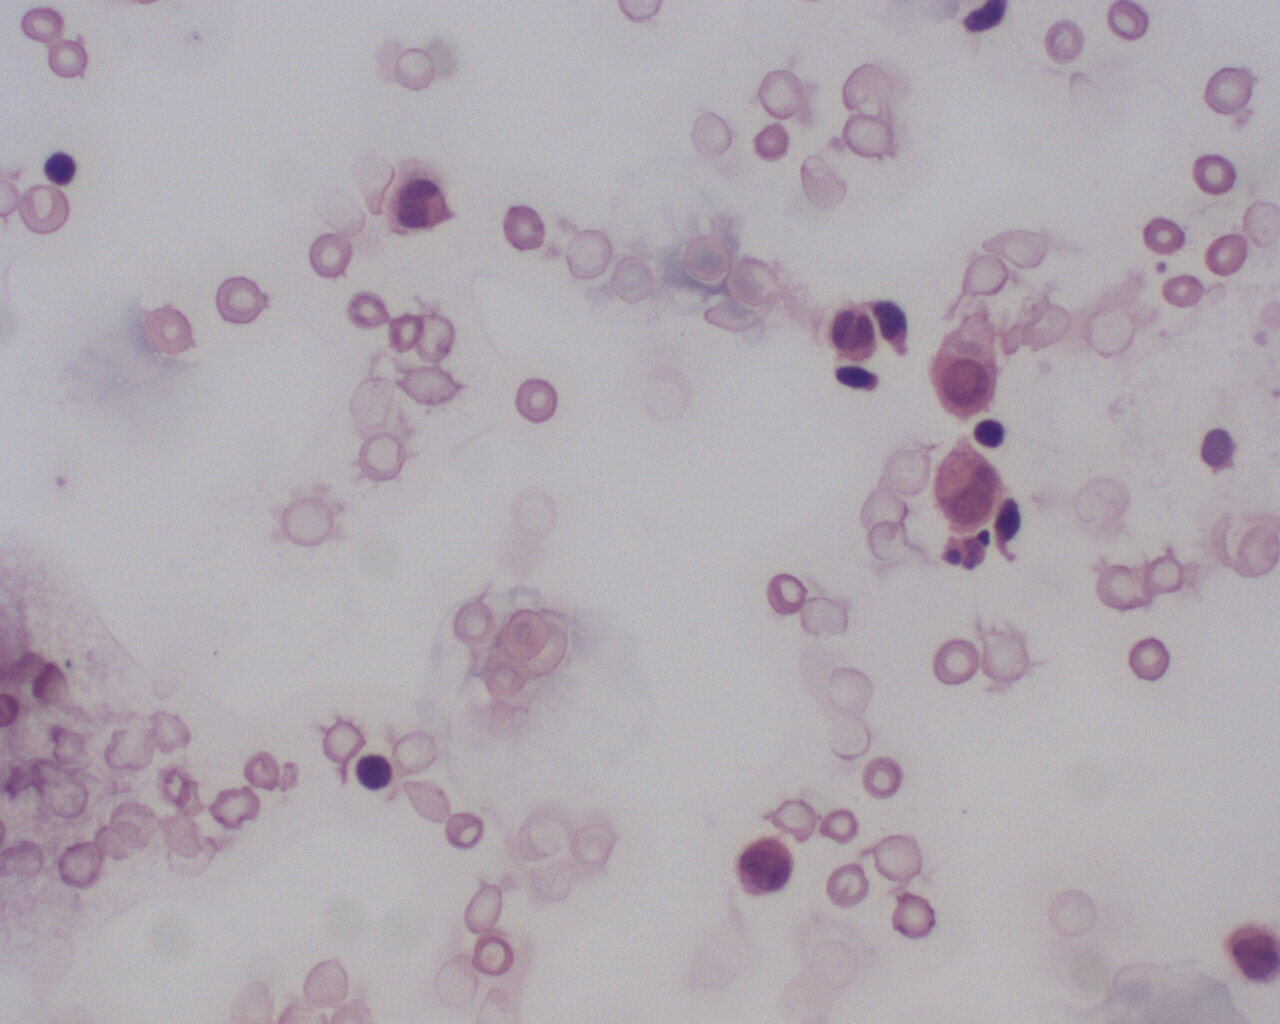ab: (925, 440, 1008, 529), (734, 834, 802, 904)
lymph: (354, 750, 395, 796), (43, 149, 82, 187)
